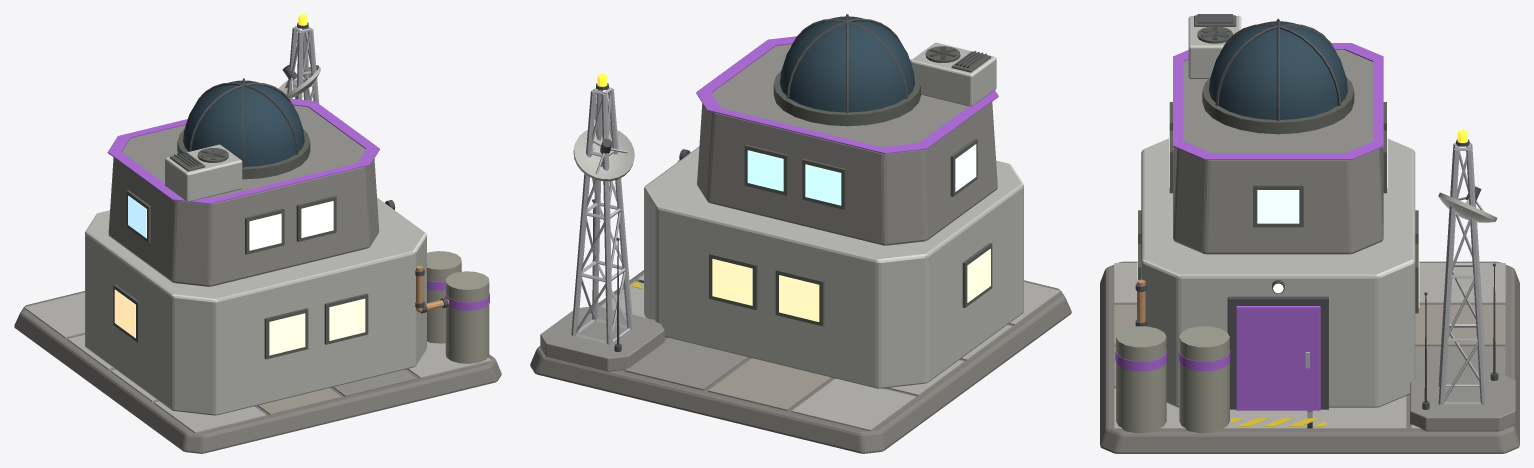
The model's file is tech_center_purple.glb.
The picture shows the model from 3 angles, left to right: view 1: azimuth 30°, elevation 25°; view 2: azimuth 150°, elevation 25°; view 3: azimuth 270°, elevation 25°; orthographic projection. The views are drawn at different scales.
Parts seen in each view (by area): view 1: Body; view 2: Body; view 3: Body.
Part boxes in pixels (x1,y1,x2,y2): Body: [14, 14, 501, 453]; Body: [530, 14, 1071, 453]; Body: [1100, 14, 1519, 453].
Bounding box in the file's own units: 3.98 × 3.4 × 3.98.
1 material, 1 textured.
